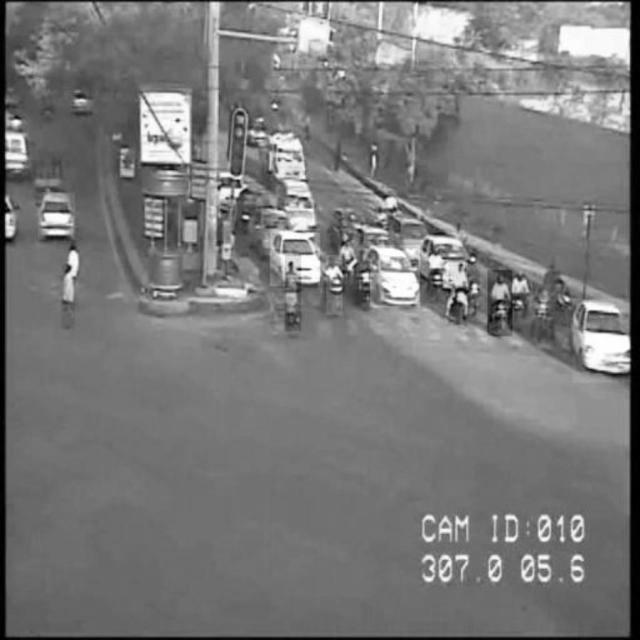person: (62, 265, 76, 329)
vehicle: (572, 299, 630, 382), (369, 245, 420, 307), (271, 233, 321, 287), (39, 193, 76, 240), (488, 270, 513, 336), (285, 255, 301, 331), (449, 261, 466, 325), (326, 255, 342, 316)
